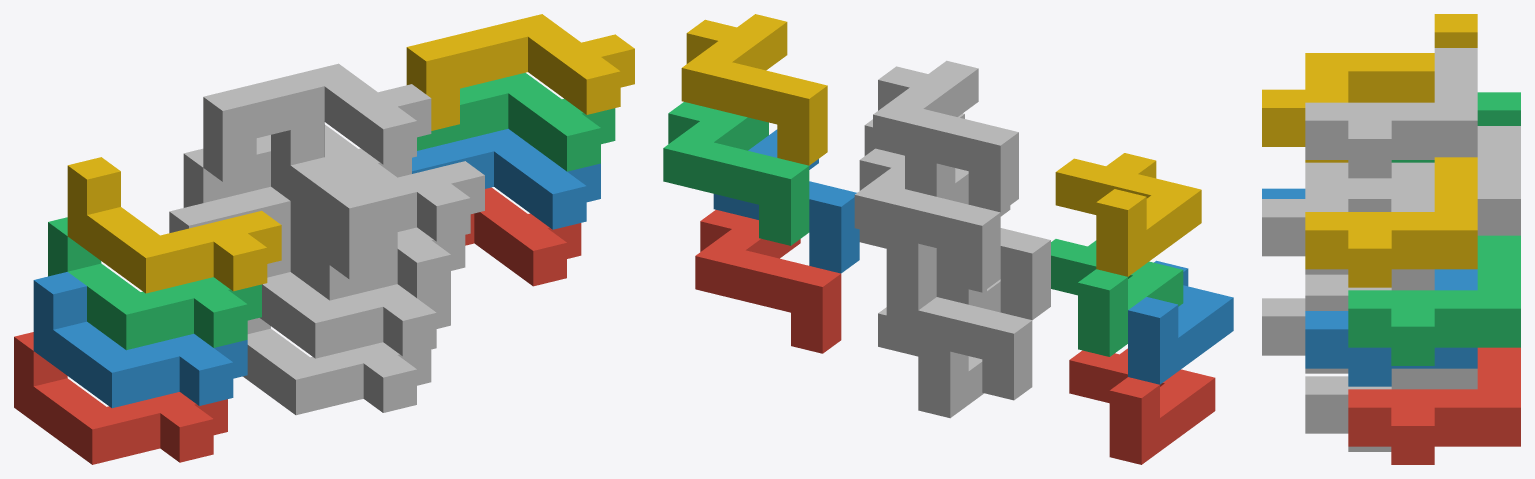
The model's file is tiling.obj.
The picture shows the model from 3 angles, left to right: view 1: azimuth 30°, elevation 25°; view 2: azimuth 150°, elevation 25°; view 3: azimuth 270°, elevation 25°; orthographic projection. The views are drawn at different scales.
Visible parts, largest first — view 1: copy_2_domain_4, copy_1_domain_4, copy_2_domain_8, copy_1_domain_2, copy_1_domain_8, copy_1_domain_1, copy_1_domain_3, copy_1_domain_6, copy_1_domain_5, copy_2_domain_7, copy_2_domain_6, copy_1_domain_7 (+3 smaller); view 2: copy_2_domain_8, copy_2_domain_4, copy_2_domain_7, copy_2_domain_5, copy_1_domain_4, copy_2_domain_3, copy_1_domain_1, copy_2_domain_1, copy_1_domain_3, copy_1_domain_2, copy_2_domain_6, copy_1_domain_5 (+4 smaller); view 3: copy_2_domain_8, copy_2_domain_7, copy_2_domain_4, copy_2_domain_5, copy_1_domain_4, copy_2_domain_3, copy_2_domain_6, copy_1_domain_8, copy_1_domain_5, copy_1_domain_6, copy_1_domain_7, copy_1_domain_3 (+1 smaller).
Part boxes in pixels (<box>): copy_2_domain_4: <box>203,63,431,181</box>; copy_1_domain_4: <box>67,157,281,293</box>; copy_2_domain_8: <box>406,14,634,130</box>; copy_1_domain_2: <box>33,272,247,408</box>; copy_1_domain_8: <box>271,121,484,243</box>; copy_1_domain_1: <box>14,332,227,464</box>; copy_1_domain_3: <box>48,217,261,350</box>; copy_1_domain_6: <box>260,236,450,358</box>; copy_1_domain_5: <box>243,318,431,415</box>; copy_2_domain_7: <box>417,72,615,171</box>; copy_2_domain_6: <box>412,128,600,229</box>; copy_1_domain_7: <box>290,227,465,300</box>; copy_2_domain_8: <box>681,14,827,165</box>; copy_2_domain_4: <box>873,60,1018,212</box>; copy_2_domain_7: <box>663,102,809,245</box>; copy_2_domain_5: <box>695,210,841,353</box>; copy_1_domain_4: <box>1055,153,1201,276</box>; copy_2_domain_3: <box>854,148,1000,292</box>; copy_1_domain_1: <box>1069,348,1215,464</box>; copy_2_domain_1: <box>886,297,1032,400</box>; copy_1_domain_3: <box>1051,239,1183,356</box>; copy_1_domain_2: <box>1128,260,1233,384</box>; copy_2_domain_6: <box>713,129,859,273</box>; copy_1_domain_5: <box>878,307,983,418</box>; copy_2_domain_8: <box>1305,157,1477,287</box>; copy_2_domain_7: <box>1348,235,1520,365</box>; copy_2_domain_4: <box>1305,48,1477,178</box>; copy_2_domain_5: <box>1348,347,1520,464</box>; copy_1_domain_4: <box>1262,14,1477,162</box>; copy_2_domain_3: <box>1348,126,1520,235</box>; copy_2_domain_6: <box>1305,269,1477,386</box>; copy_1_domain_8: <box>1262,162,1434,274</box>; copy_1_domain_5: <box>1305,368,1477,451</box>; copy_1_domain_6: <box>1262,274,1348,373</box>; copy_1_domain_7: <box>1305,269,1434,310</box>; copy_1_domain_3: <box>1391,92,1520,162</box>.
Bounding box in the file's own units: 16 × 8 × 6.
